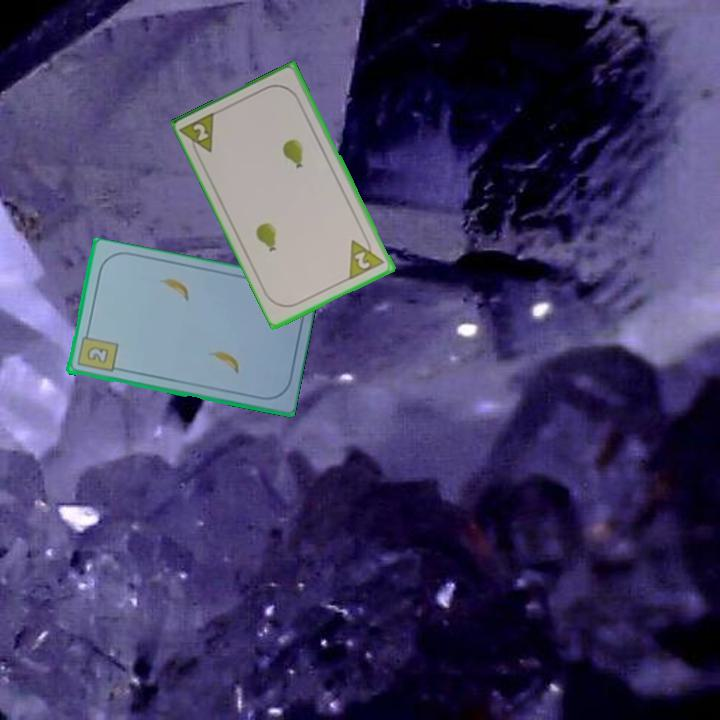2b: (73, 327, 120, 375)
2p: (178, 108, 220, 161), (346, 231, 388, 282)
